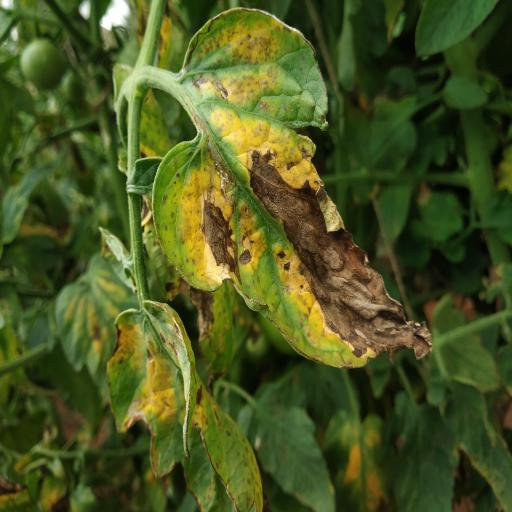Early Blight: (148, 10, 446, 386)
